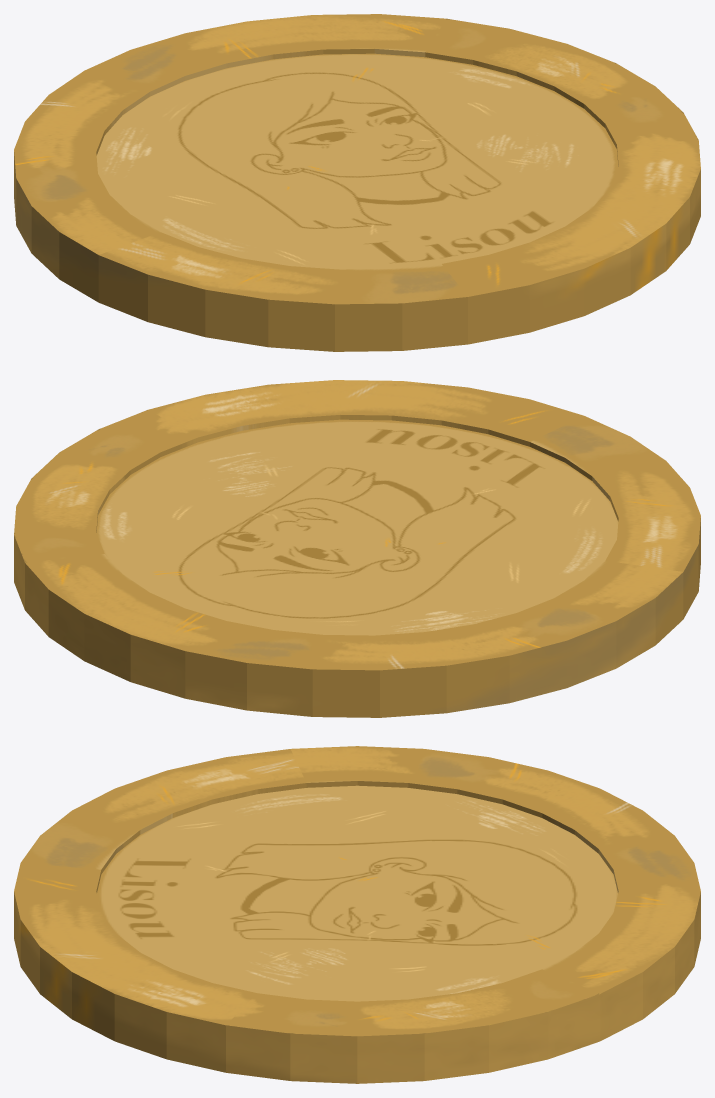
Rendered from piece path of matches Lise.fbx.
The picture shows the model from 3 angles, top to bottom: view 1: azimuth 30°, elevation 25°; view 2: azimuth 150°, elevation 25°; view 3: azimuth 270°, elevation 25°; orthographic projection.
Visible parts, largest first — view 1: Piece Lise; view 2: Piece Lise; view 3: Piece Lise.
Part boxes in pixels (x1,y1,x2,y2): Piece Lise: (14,14,700,351); Piece Lise: (14,380,700,717); Piece Lise: (14,746,700,1083).
Size of the model in its own units: 200 by 15.25 by 200.
Materials: 2 (2 with a texture image).
